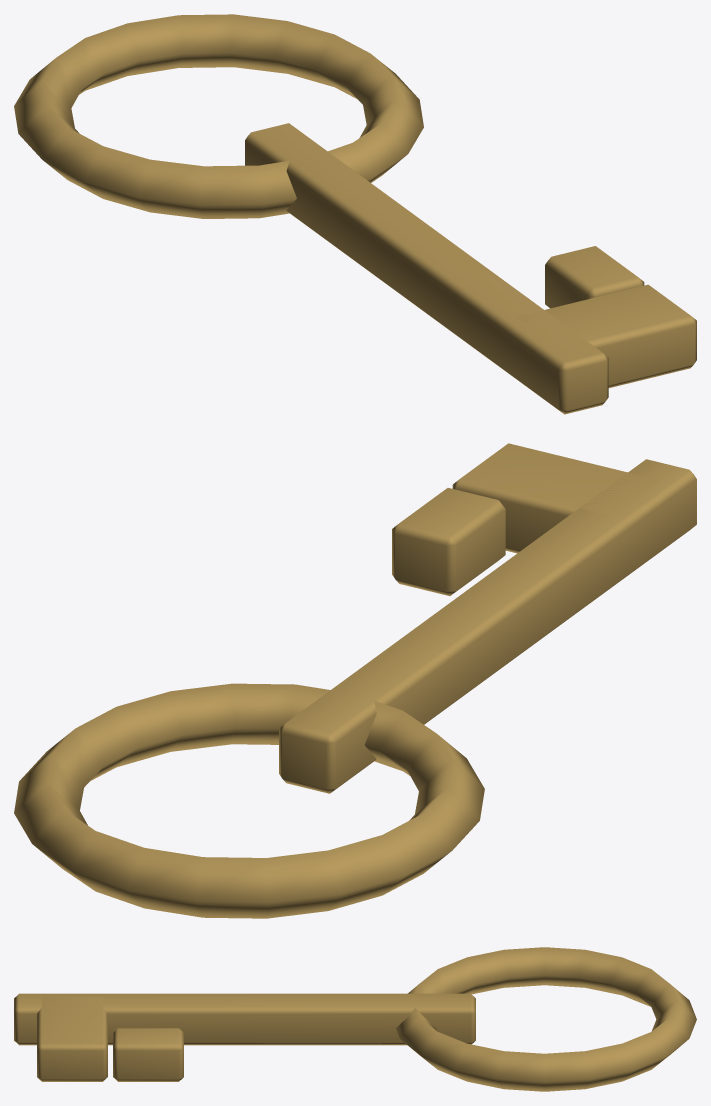
The model's file is rpg-mansion-key-01.glb.
3 renders of one model, top to bottom at view 1: azimuth 30°, elevation 25°; view 2: azimuth 150°, elevation 25°; view 3: azimuth 270°, elevation 25°, orthographic. The views are drawn at different scales.
Parts seen in each view (by area): view 1: rpg-mansion-key-01; view 2: rpg-mansion-key-01; view 3: rpg-mansion-key-01.
Part boxes in pixels (x1=…): rpg-mansion-key-01: x1=14, y1=14, x2=696, y2=414; rpg-mansion-key-01: x1=14, y1=443, x2=696, y2=918; rpg-mansion-key-01: x1=14, y1=947, x2=696, y2=1091.
Size of the model in its own units: 0.056 by 0.008 by 0.13.
